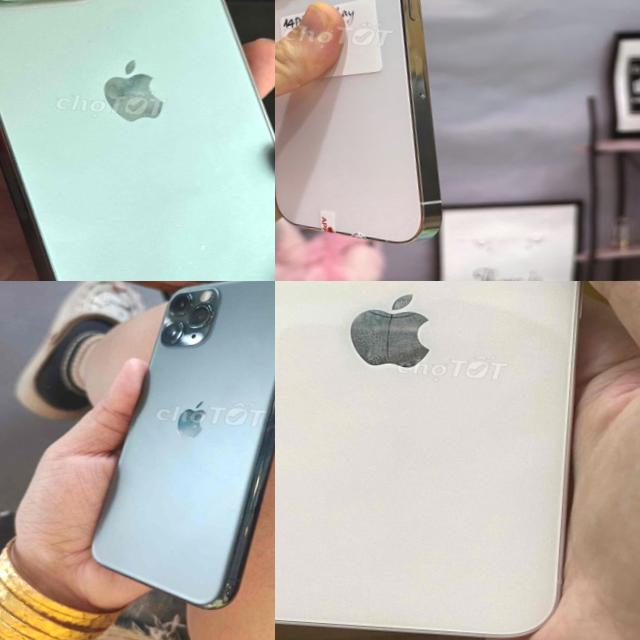gen_11: (86, 281, 275, 631)
gen_12_13: (275, 281, 622, 640), (0, 0, 275, 281)
gen_14: (275, 0, 481, 262)
